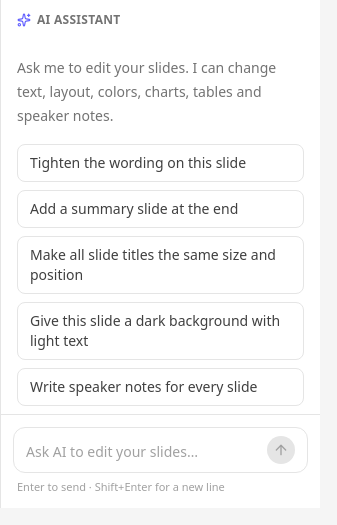
Scenario: ChatPanel › writes speaker notes for every slide from the suggestion
Step 1. Click the button "Write speaker notes for every slide" → (160, 387), box [17,368,304,406]
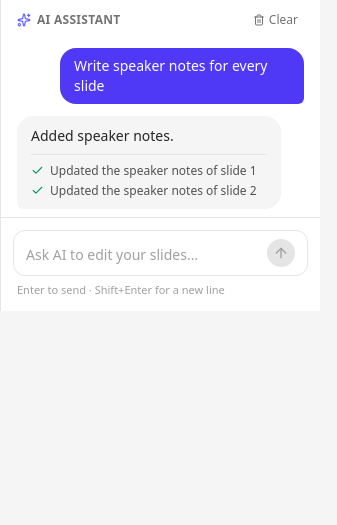
expect the text "Added speaker notes." is shown: met, box [31,126,174,145]
expect the list named "Changes" shows "Updated the speaker notes of slide 1": met, box [50,162,257,179]
expect the list named "Changes" shows "Updated the speaker notes of slide 2": met, box [50,182,257,199]
